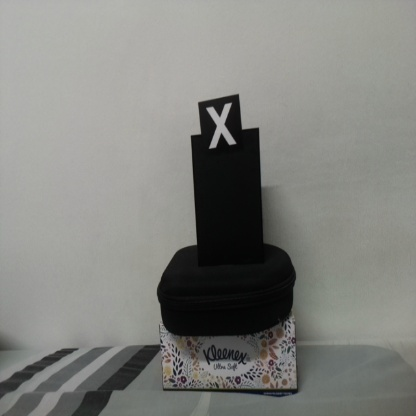id_13: (198, 100, 242, 156)
